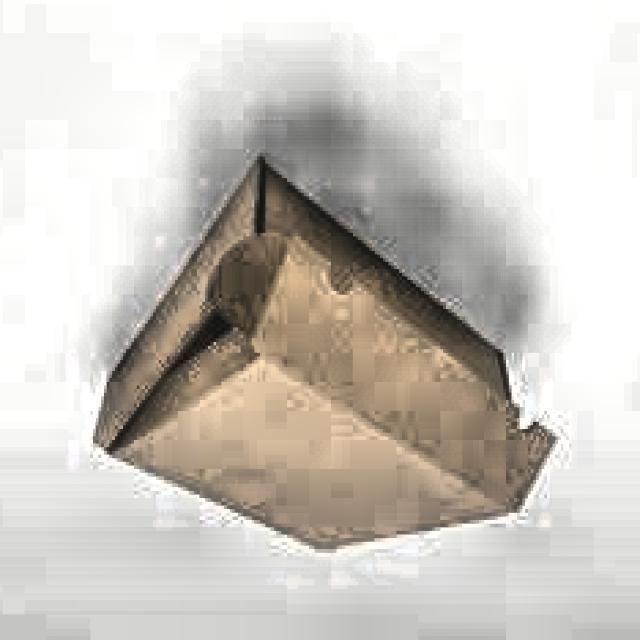cardboard: (93, 156, 558, 560)
